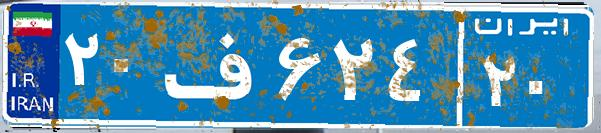0: (110, 28, 158, 105), (525, 38, 570, 115)
2: (330, 28, 385, 110), (57, 26, 110, 107), (475, 38, 525, 113)
4: (385, 28, 445, 110)
6: (273, 28, 330, 110)
ف: (158, 15, 273, 115)
